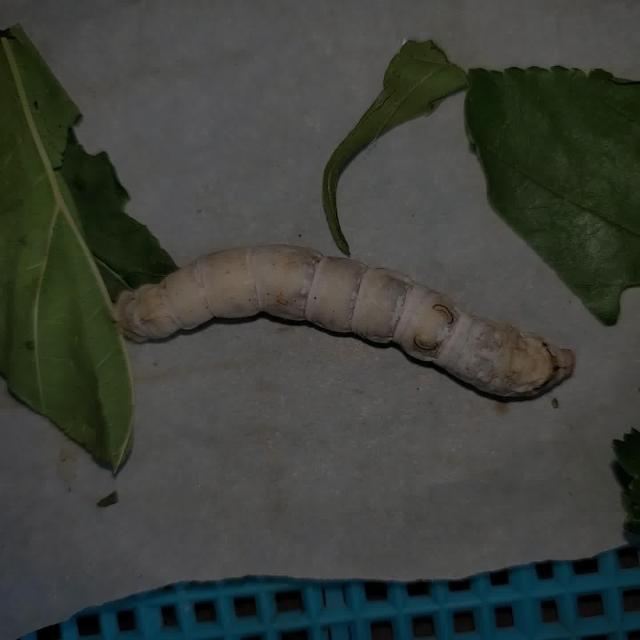Grasserie: (92, 210, 596, 466)
